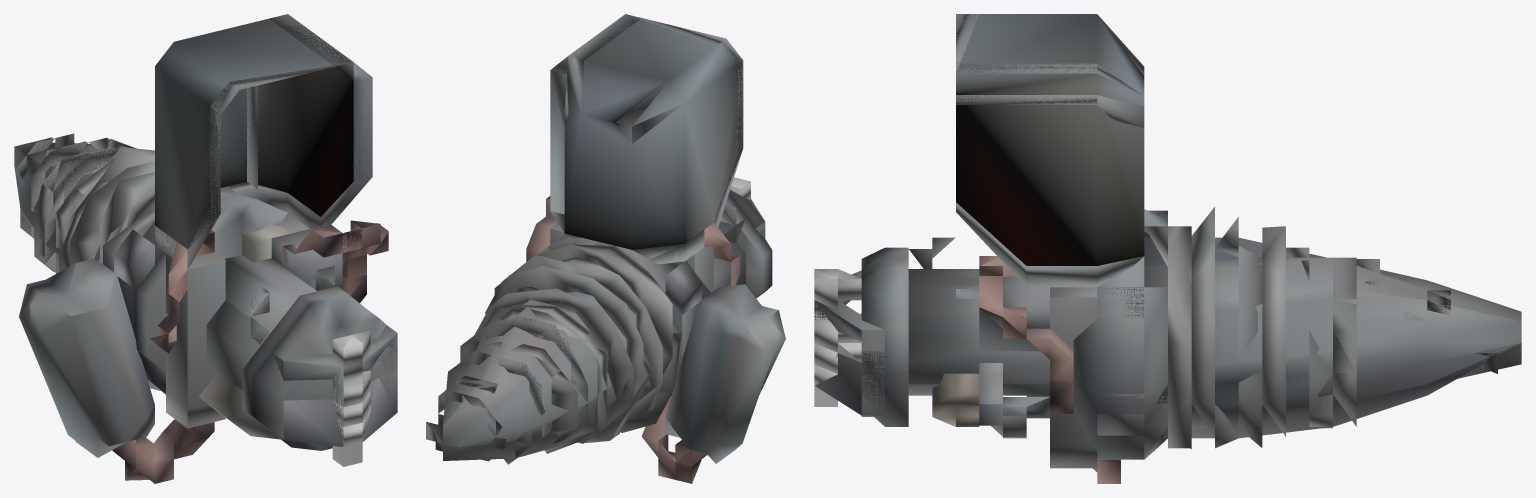
Rendered from electric-mining-drill.1.glb.
3 renders of one model, left to right at view 1: azimuth 30°, elevation 25°; view 2: azimuth 150°, elevation 25°; view 3: azimuth 270°, elevation 25°, orthographic. The views are drawn at different scales.
Parts seen in each view (by area): view 1: modelo; view 2: modelo; view 3: modelo.
Boxes of the visible parts, box(x1,y1,x2,y2) form: modelo: box(14, 14, 397, 483); modelo: box(426, 14, 785, 483); modelo: box(814, 14, 1521, 483).
Size of the model in its own units: 0.016 by 0.022 by 0.03.
